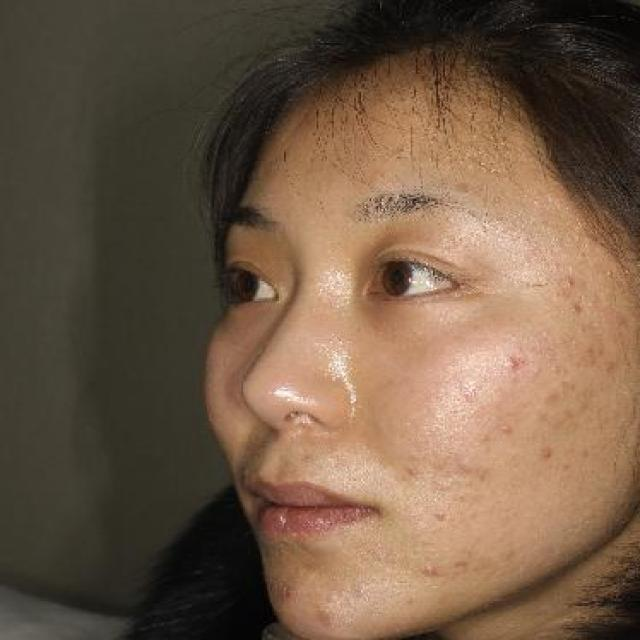Acne: (534, 443, 563, 465), (499, 354, 524, 374), (418, 560, 443, 578), (568, 295, 585, 320), (448, 177, 476, 192), (554, 275, 578, 288)
Whiteheads: (493, 417, 522, 441)
